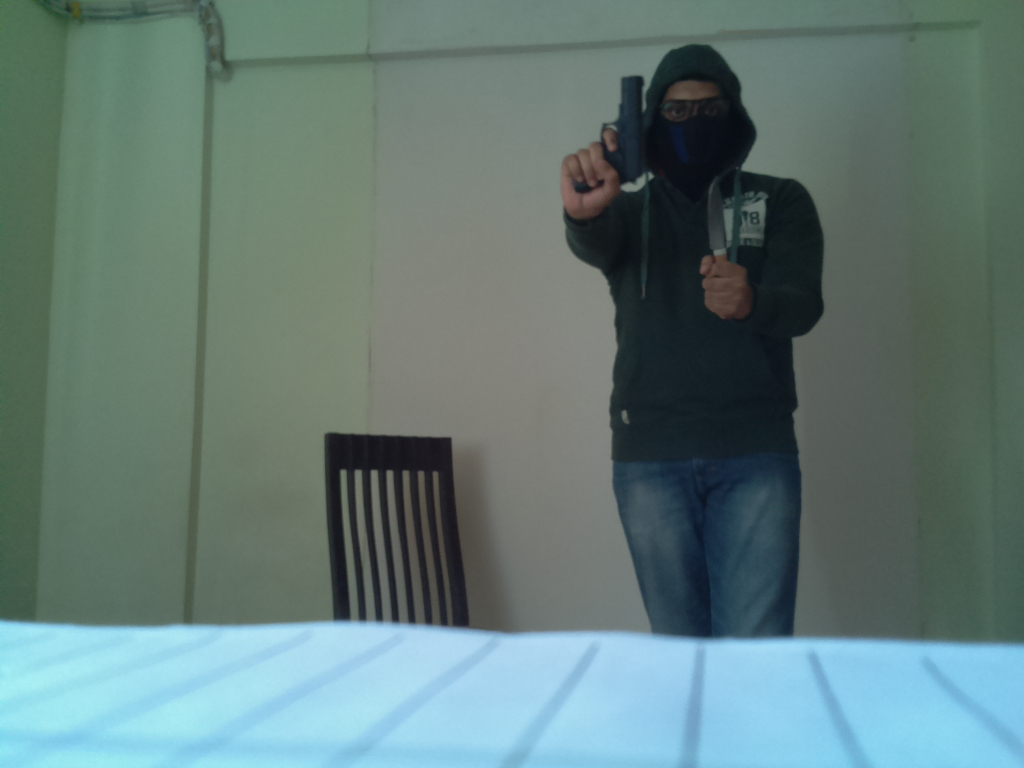gun: (575, 74, 647, 194)
knife: (703, 175, 730, 272)
